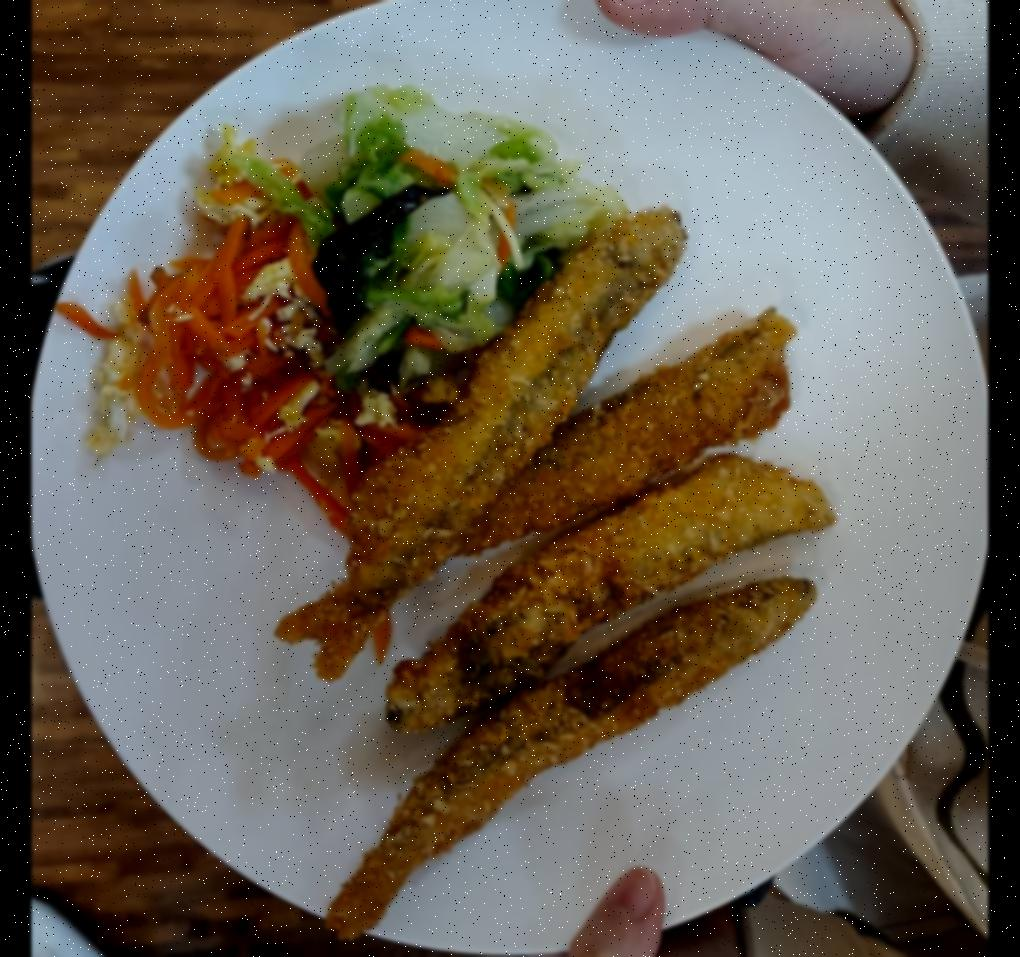big fried chicken leg: (31, 0, 978, 957)
braised fish fillet: (67, 214, 396, 513), (318, 83, 603, 379)
braised pork: (272, 187, 838, 952)
